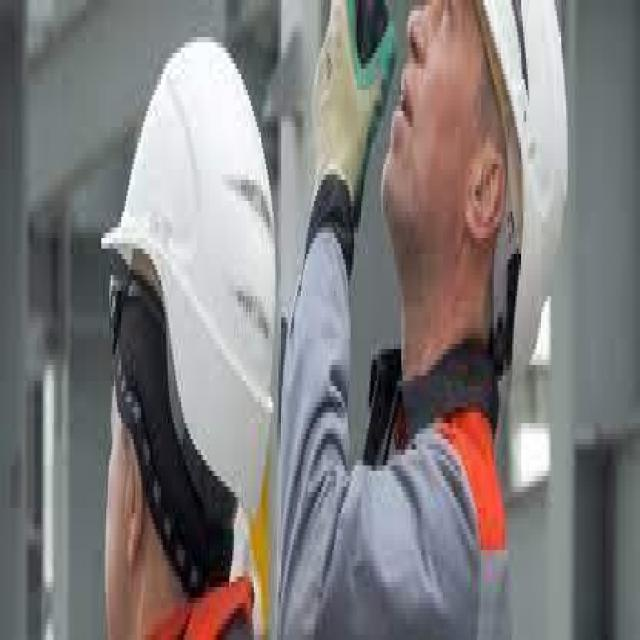Reflective-Jacket: (326, 365, 531, 640)
Safety-Helmet: (100, 26, 282, 518)
